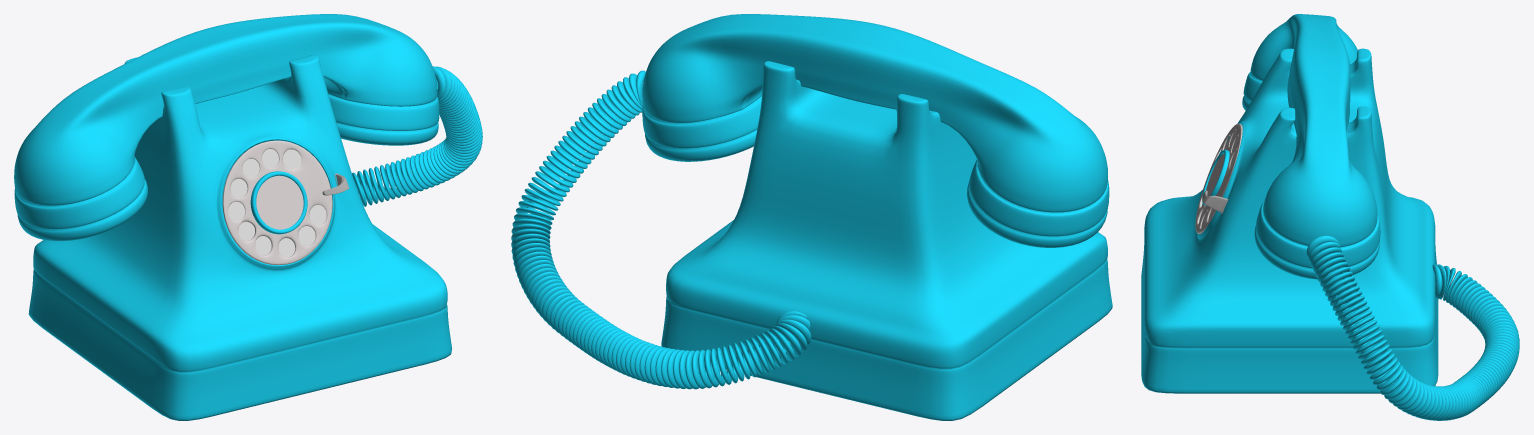
3 views of the same model, side by side, from view 1: azimuth 30°, elevation 25°; view 2: azimuth 150°, elevation 25°; view 3: azimuth 270°, elevation 25° (orthographic). The views are drawn at different scales.
Visible parts, largest first — view 1: fixed_rotar.001; view 2: fixed_rotar.001; view 3: fixed_rotar.001.
Part boxes in pixels (x1=…): fixed_rotar.001: x1=14, y1=14, x2=482, y2=420; fixed_rotar.001: x1=511, y1=14, x2=1112, y2=420; fixed_rotar.001: x1=1141, y1=14, x2=1519, y2=420.
Bounding box in the file's own units: 9.07 × 5.03 × 6.3.
